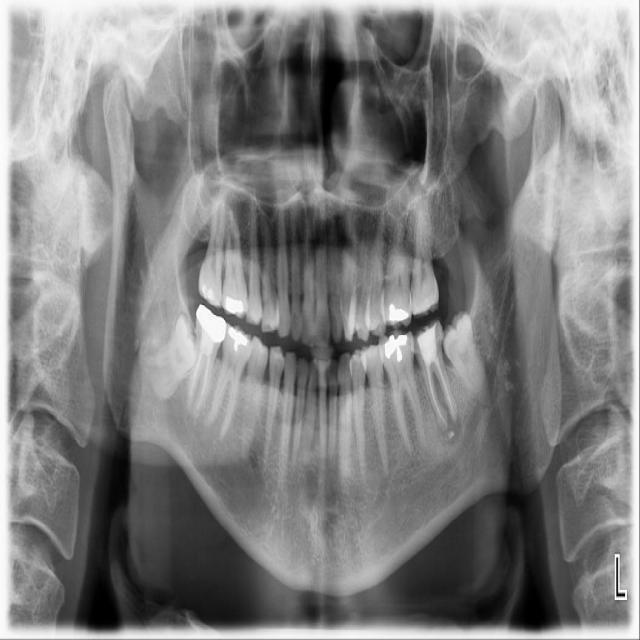Crown: (196, 305, 228, 342)
Filling: (417, 323, 437, 368), (385, 334, 408, 361), (228, 327, 247, 352), (200, 331, 214, 357), (389, 304, 408, 322), (223, 296, 243, 313)
Periapical lesion: (432, 398, 450, 433), (447, 392, 460, 426), (404, 439, 417, 458)
Root Canal Treatment: (435, 358, 453, 417), (426, 365, 444, 421), (189, 357, 204, 407), (198, 355, 209, 415)
impacted tooth: (440, 312, 490, 408), (139, 316, 196, 396)
